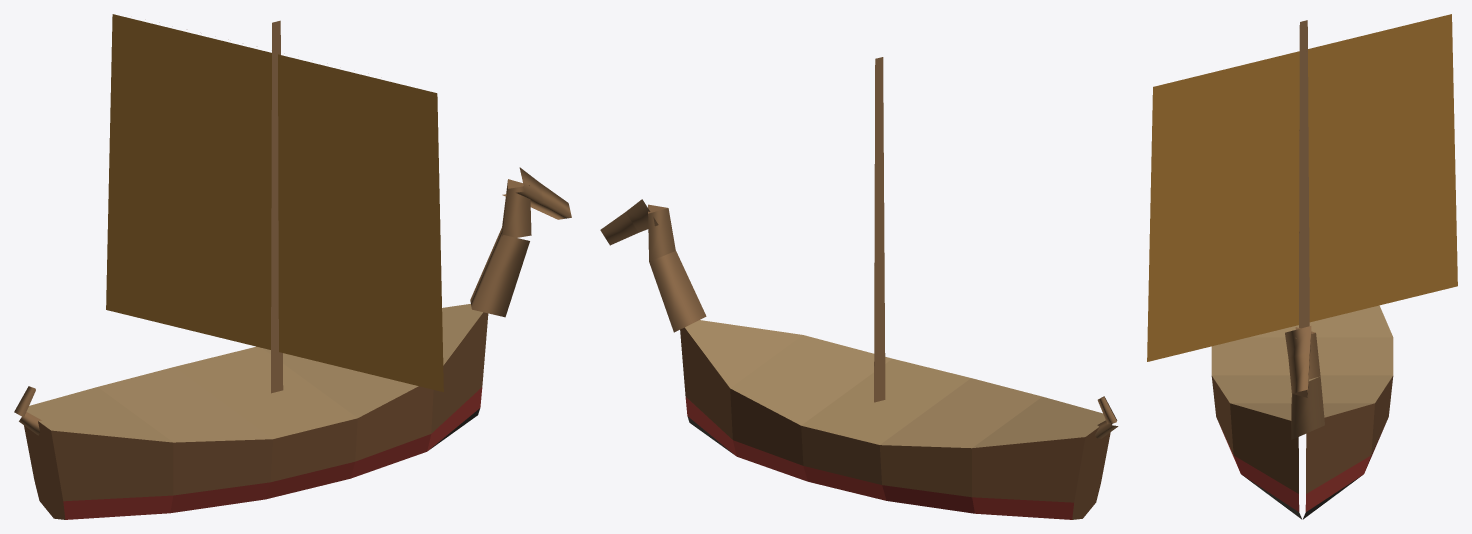
File: hull_fiat_hippos_small_lod.glb
The picture shows the model from 3 angles, left to right: view 1: azimuth 30°, elevation 25°; view 2: azimuth 150°, elevation 25°; view 3: azimuth 270°, elevation 25°; orthographic projection. The views are drawn at different scales.
Visible parts, largest first — view 1: lod; view 2: lod; view 3: lod.
Boxes of the visible parts, left/top/right/bottom form: lod: left=14, top=14, right=571, bottom=519; lod: left=600, top=57, right=1118, bottom=519; lod: left=1147, top=14, right=1457, bottom=519.
Size of the model in its own units: 12.32 by 9.86 by 6.48.
